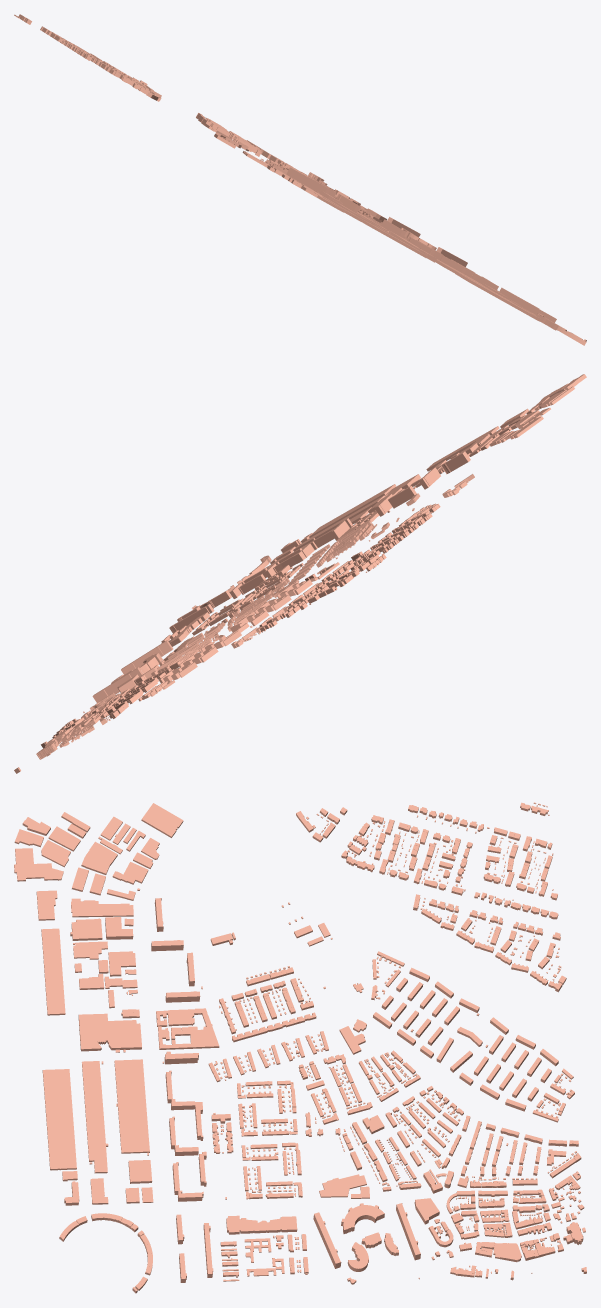
The picture shows the model from 3 angles, top to bottom: view 1: azimuth 30°, elevation 25°; view 2: azimuth 150°, elevation 25°; view 3: azimuth 270°, elevation 25°; orthographic projection. The views are drawn at different scales.
Bounding box in the file's own units: 1048 × 765 × 1295.
